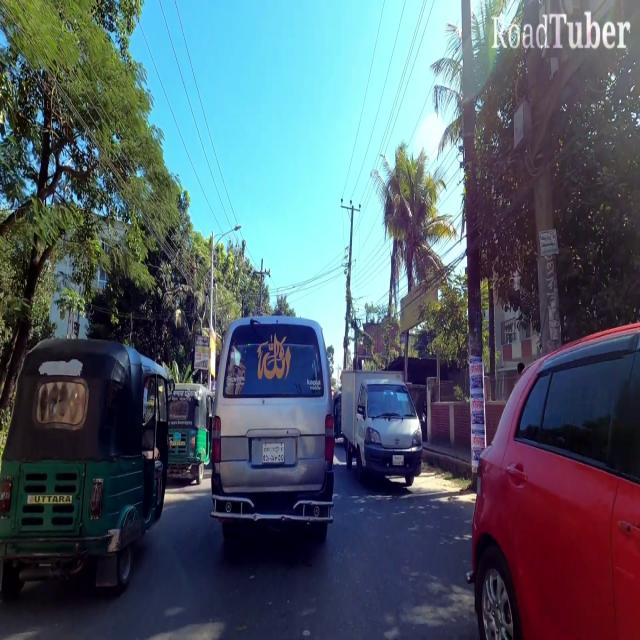red: (464, 315, 639, 640)
silver: (210, 314, 336, 551)
